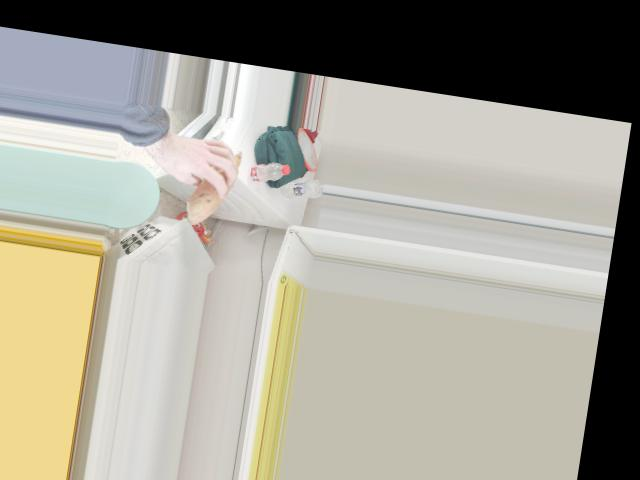sweet_potato: (185, 140, 243, 227)
